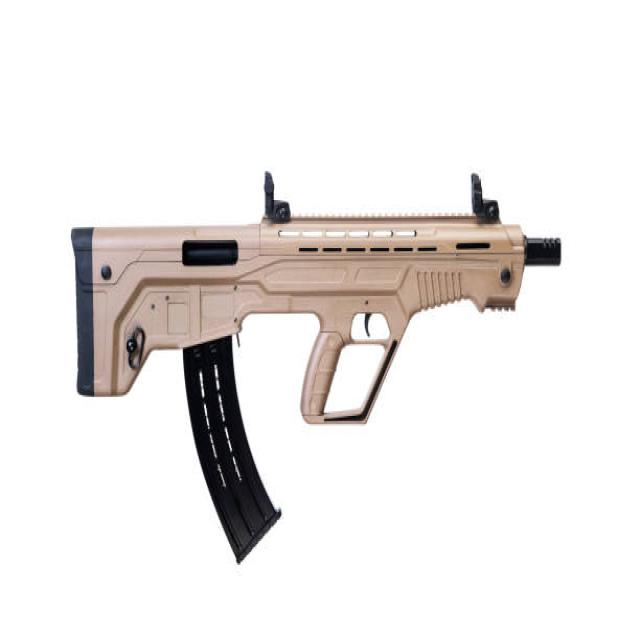rifle: (68, 162, 577, 568)
